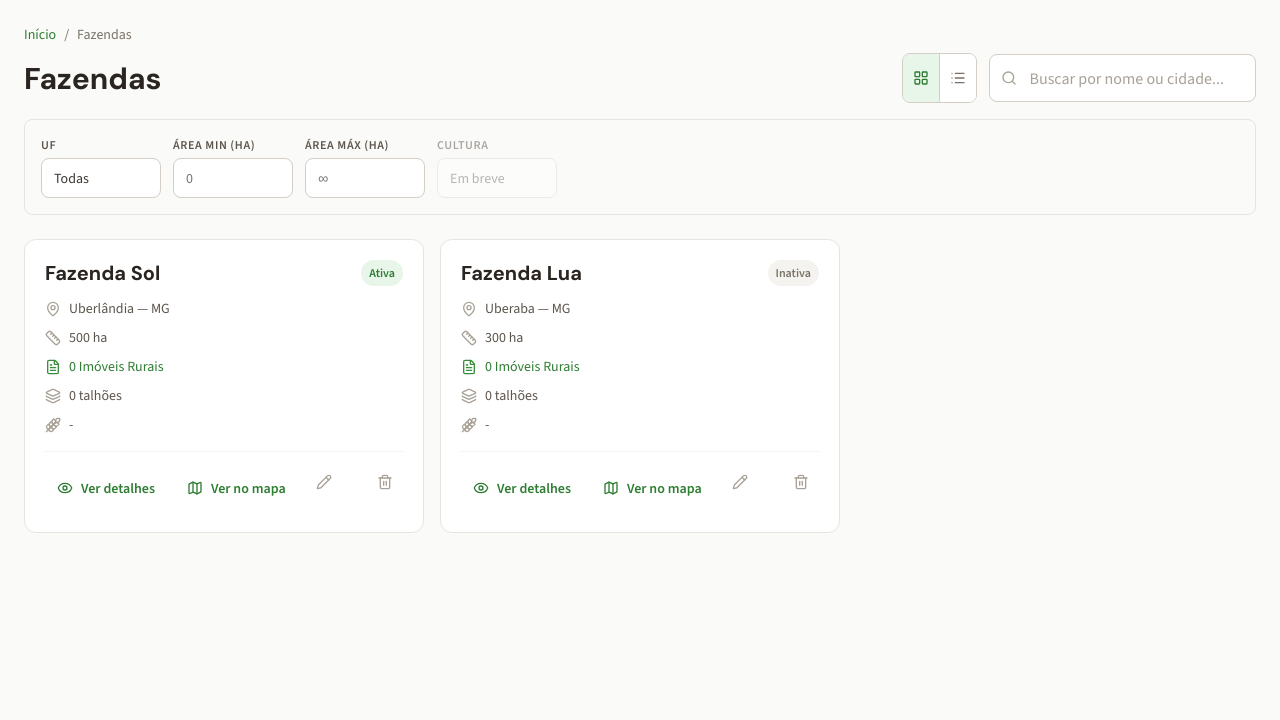
it: FarmsPage › should open delete modal when delete button is clicked
Click the button named "Excluir " at (385,482), box [367, 464, 403, 500]
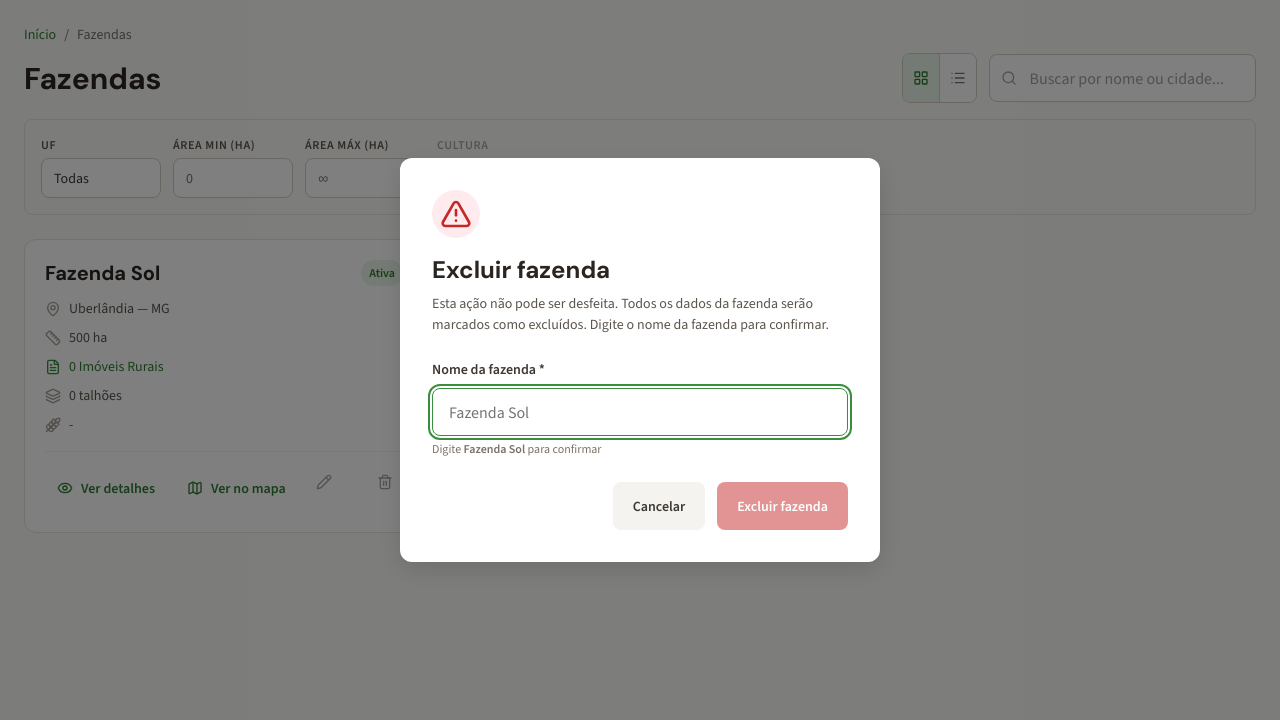
Result: the dialog is shown at [400, 158, 880, 562]
Result: the heading "Excluir fazenda" is shown at [432, 254, 610, 285]
